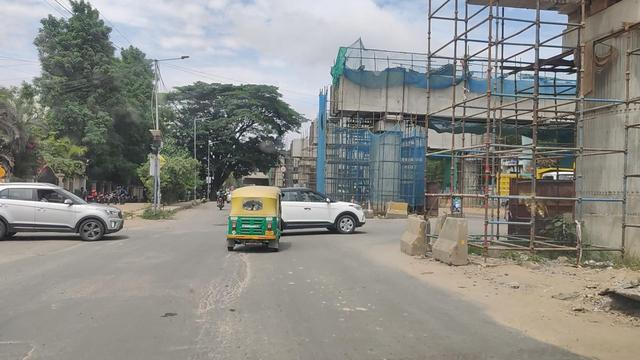LMV: (1, 182, 125, 242), (229, 187, 283, 253)
RoadDamages: (203, 253, 247, 318)
